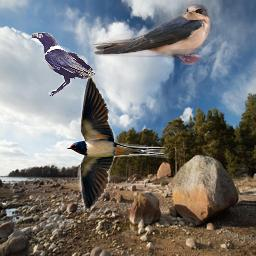Crow: (30, 32, 98, 96)
Swallow: (67, 75, 169, 213), (92, 0, 211, 65)
